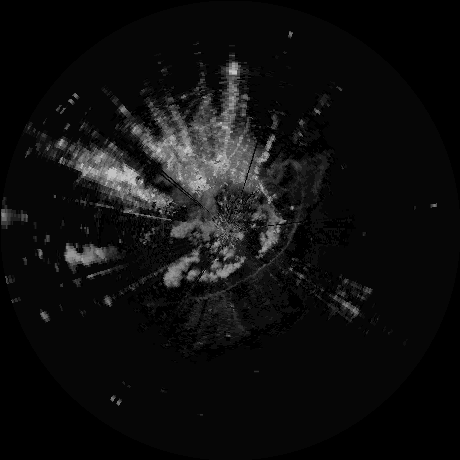frontgust: (191, 190, 305, 302)
